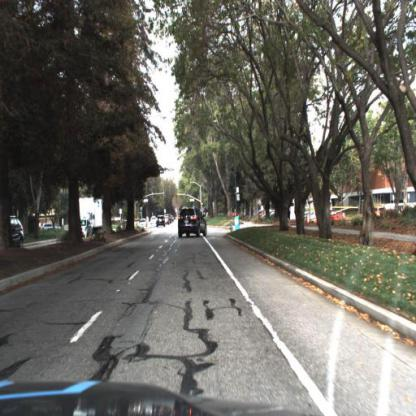car: (177, 205, 209, 239), (1, 215, 26, 254), (316, 211, 351, 229), (72, 218, 95, 238), (316, 212, 347, 226), (76, 218, 92, 241), (156, 215, 167, 229)
truck: (78, 196, 110, 231)
